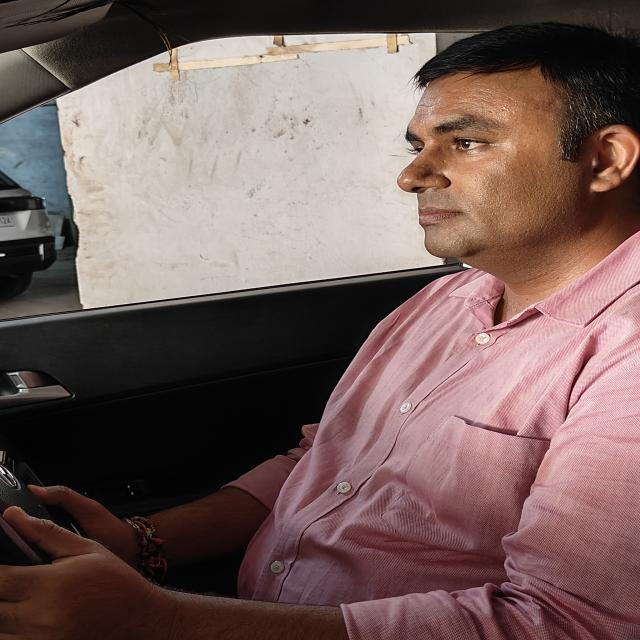no-seatbelt: (240, 267, 640, 636)
